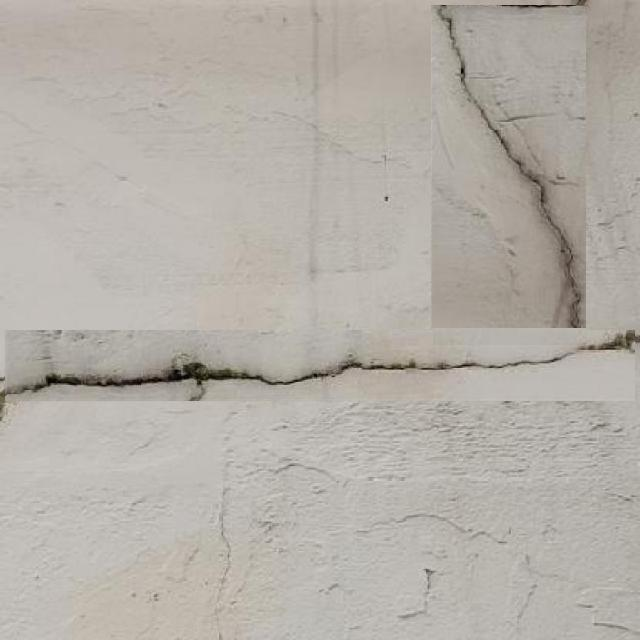diagonal crack: (433, 5, 586, 345)
horizontal crack: (7, 331, 634, 399)
